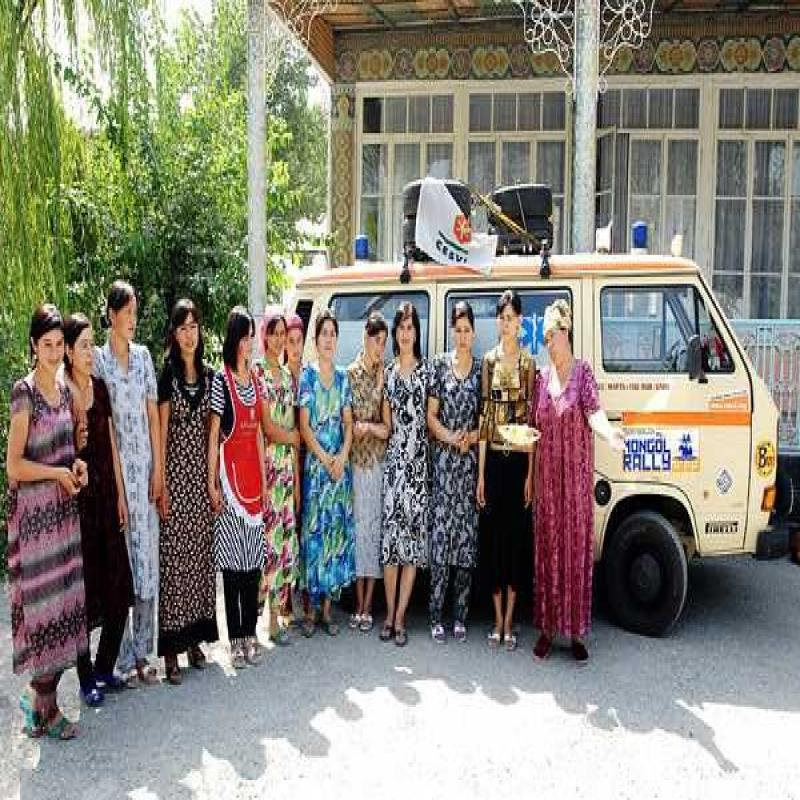AmbulanceSiren: (630, 215, 650, 256), (352, 231, 372, 271)
